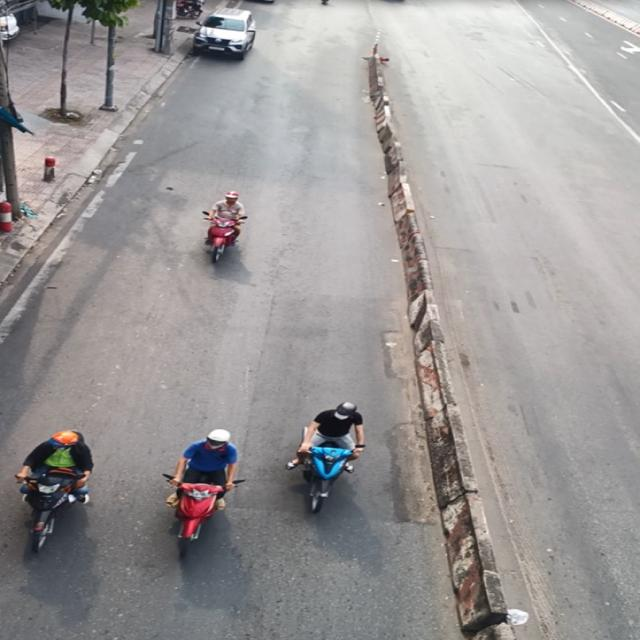car: (189, 5, 268, 64)
motorbike: (136, 422, 260, 569), (7, 421, 121, 564), (276, 392, 389, 531), (189, 185, 260, 271)
